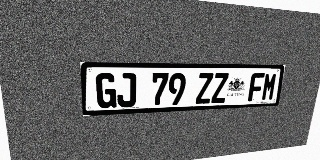7: (150, 73, 169, 106)
9: (168, 73, 186, 105)
F: (248, 73, 265, 101)
G: (96, 73, 116, 109)
J: (117, 73, 136, 108)
M: (261, 73, 278, 101)
Z: (195, 73, 213, 104), (211, 73, 229, 103)
